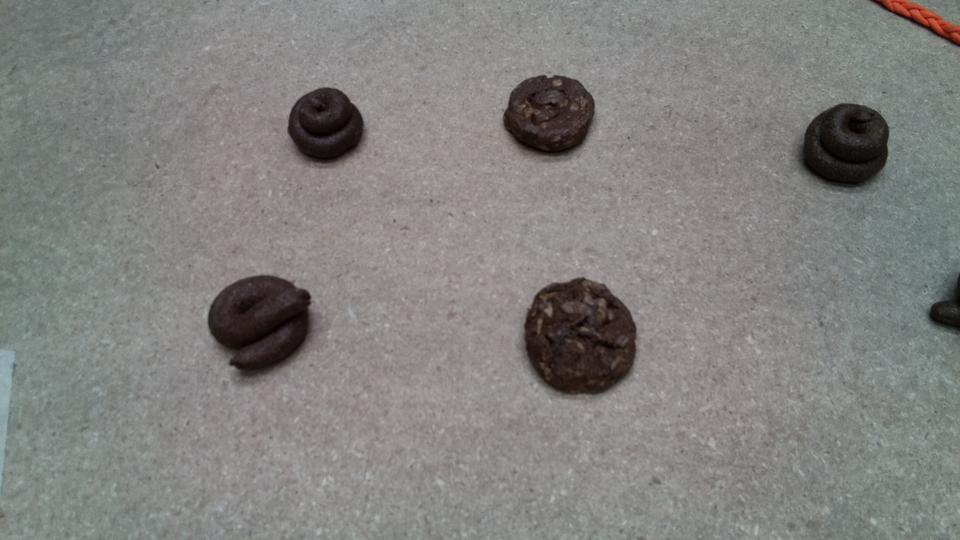poop: (527, 279, 636, 393), (208, 274, 310, 369), (504, 76, 592, 155), (801, 107, 889, 185), (291, 87, 365, 161)
rope: (914, 9, 945, 32), (880, 1, 917, 16), (938, 23, 960, 41)
